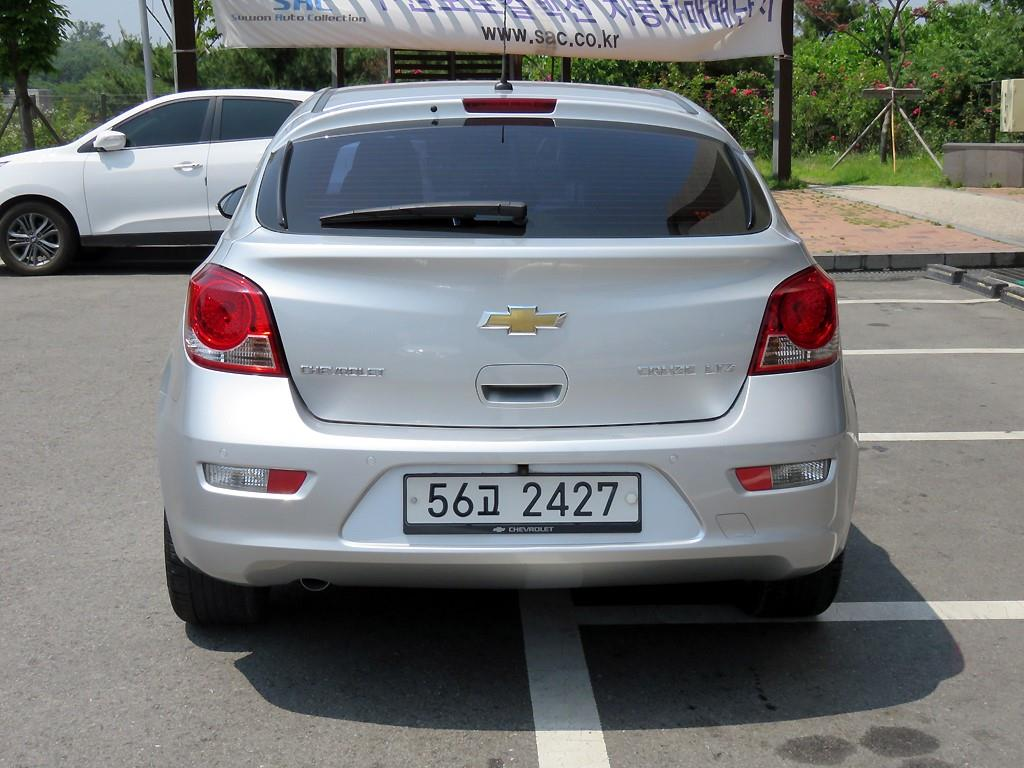plate: (406, 477, 639, 523)
